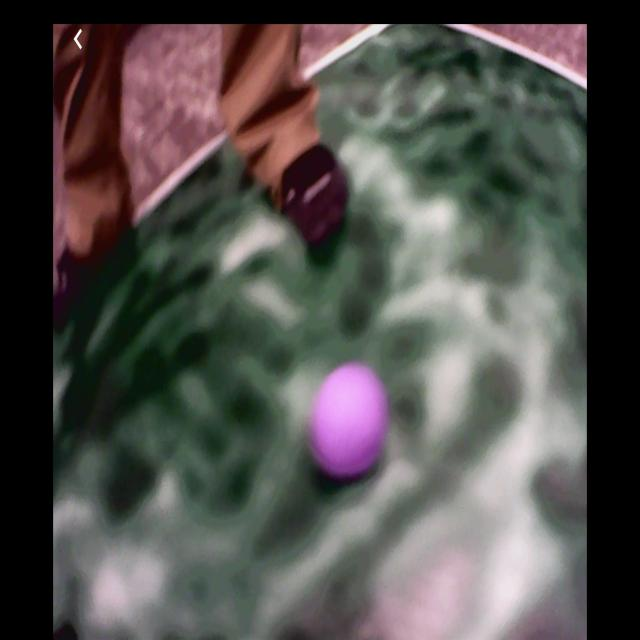ball: (310, 364, 388, 480)
